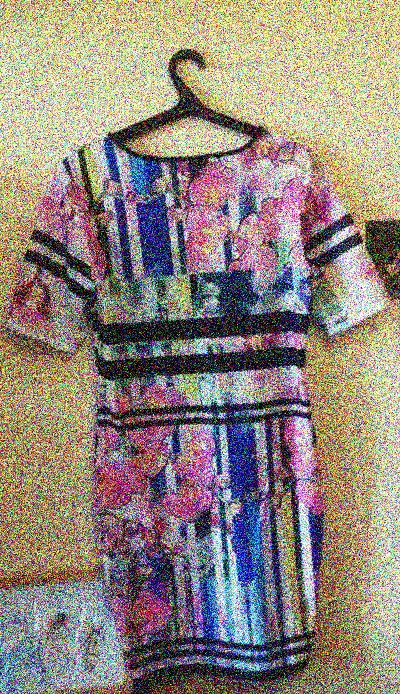Dress: (0, 85, 390, 678)
